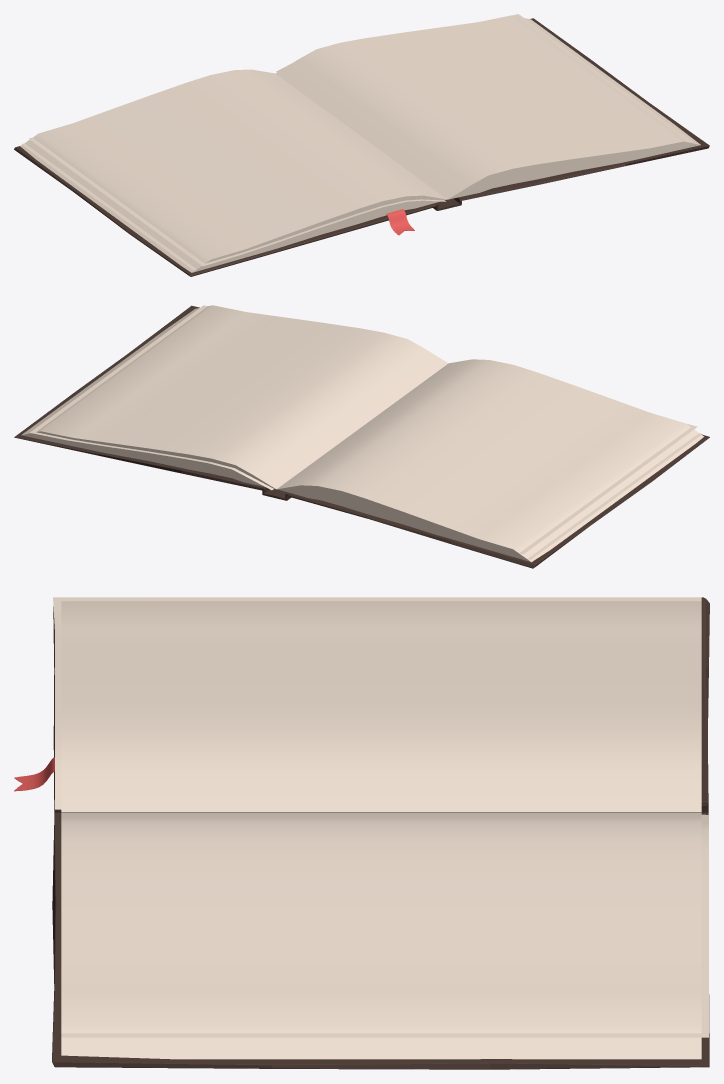
The model's file is journalOpened.fbx.
The picture shows the model from 3 angles, top to bottom: view 1: azimuth 30°, elevation 25°; view 2: azimuth 150°, elevation 25°; view 3: azimuth 270°, elevation 25°; orthographic projection. The views are drawn at different scales.
Parts seen in each view (by area): view 1: frontPages, frontPages.001, frontCover, frontCover.001, frontPages.002, frontPages.003, frontPages.004; view 2: frontPages, frontPages.001, frontCover, frontCover.001, frontPages.002, frontPages.003; view 3: frontPages.001, frontPages, frontCover.001, frontPages.003, frontPages.002, frontCover, Spine.
Boxes of the visible parts, x1,y1,x2,y2 form: frontPages: (20,69,446,272); frontPages.001: (275,15,700,199); frontCover: (14,146,438,276); frontCover.001: (455,18,709,201); frontPages.002: (21,137,445,270); frontPages.003: (276,14,692,142); frontPages.004: (386,209,414,235); frontPages: (277,359,703,562); frontPages.001: (21,305,448,489); frontCover: (286,434,709,568); frontCover.001: (14,305,267,490); frontPages.002: (519,423,702,559); frontPages.003: (30,305,273,490); frontPages.001: (61,812,701,1059); frontPages: (61,601,701,811); frontCover.001: (52,822,709,1069); frontPages.003: (61,814,708,1037); frontPages.002: (53,597,701,809); frontCover: (53,597,709,807); Spine: (54,801,708,824).
Size of the model in its own units: 25.79 by 1.4 by 16.03.
